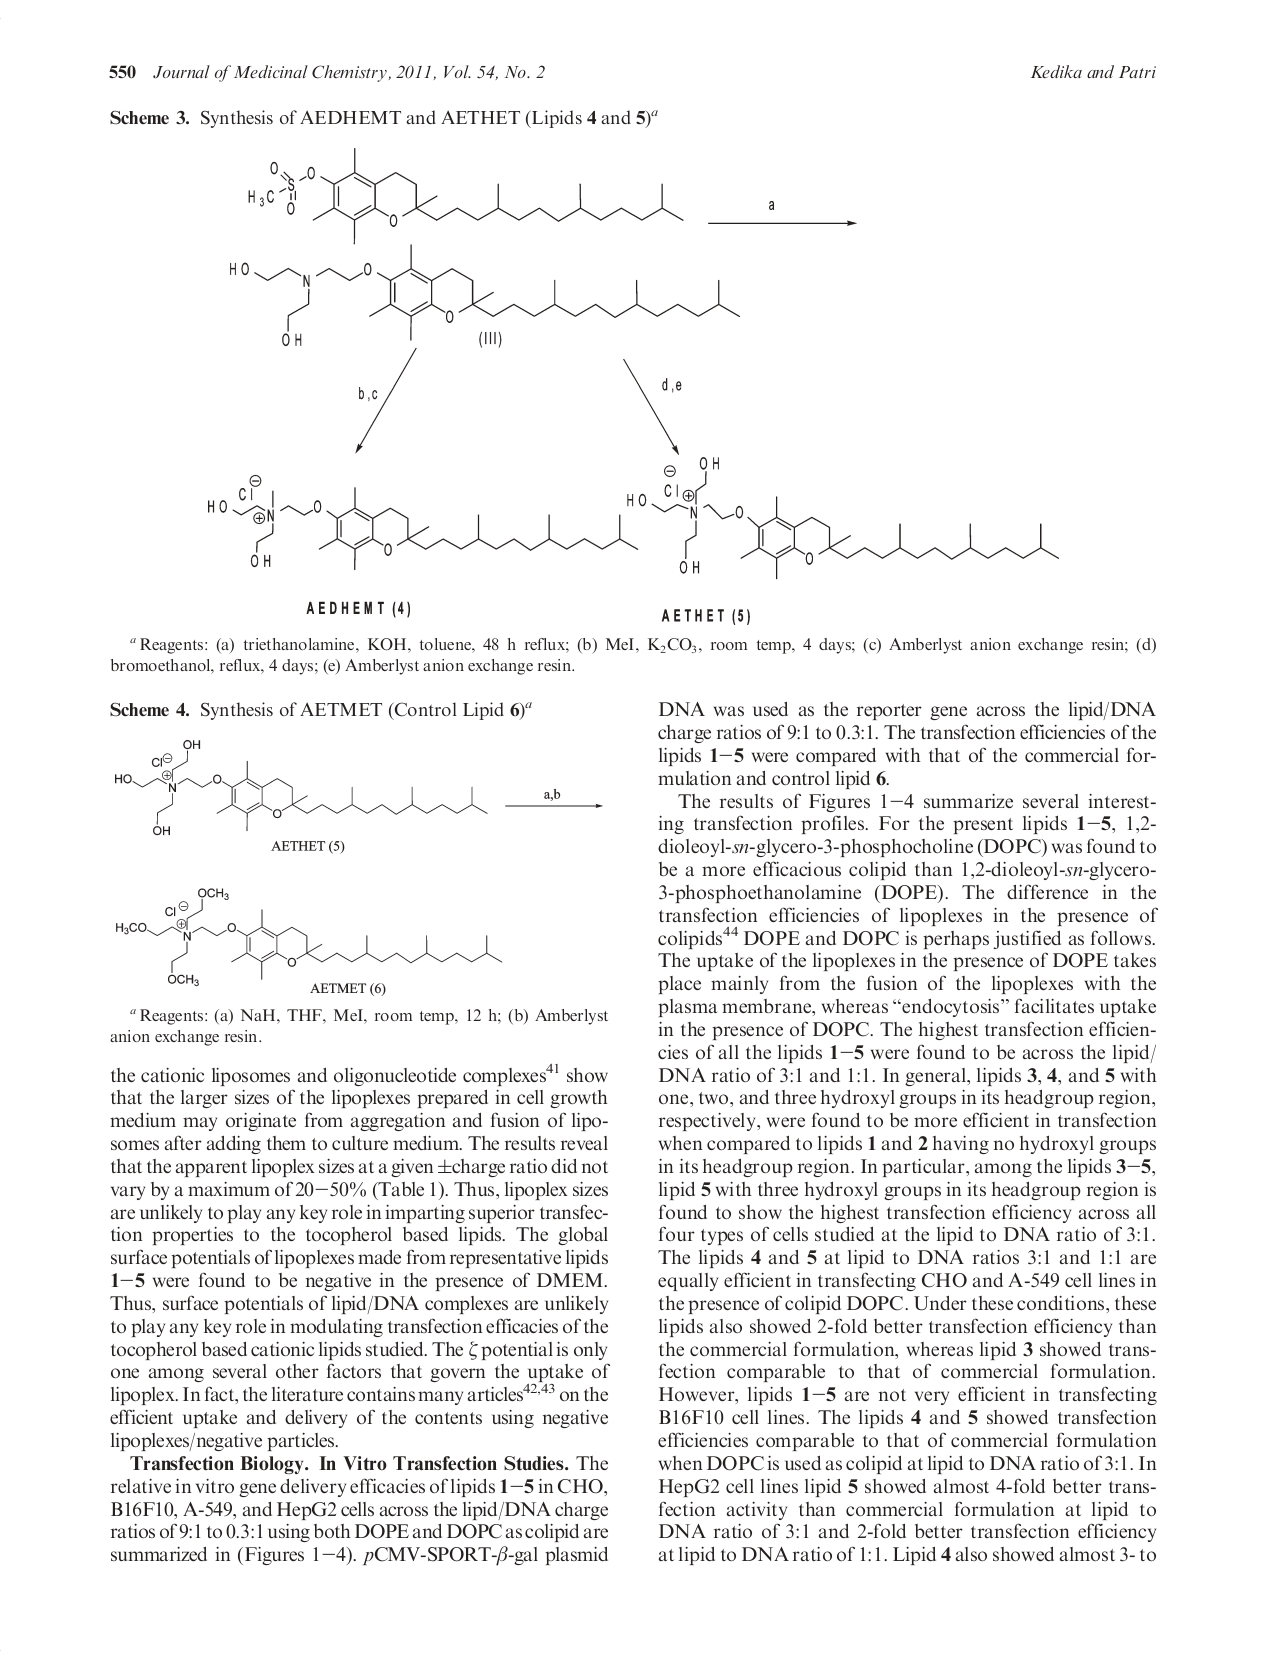exist_molecular: (626, 453, 1063, 581), (223, 239, 746, 346), (245, 144, 689, 243), (203, 473, 642, 571), (112, 883, 504, 987), (110, 737, 492, 836)
